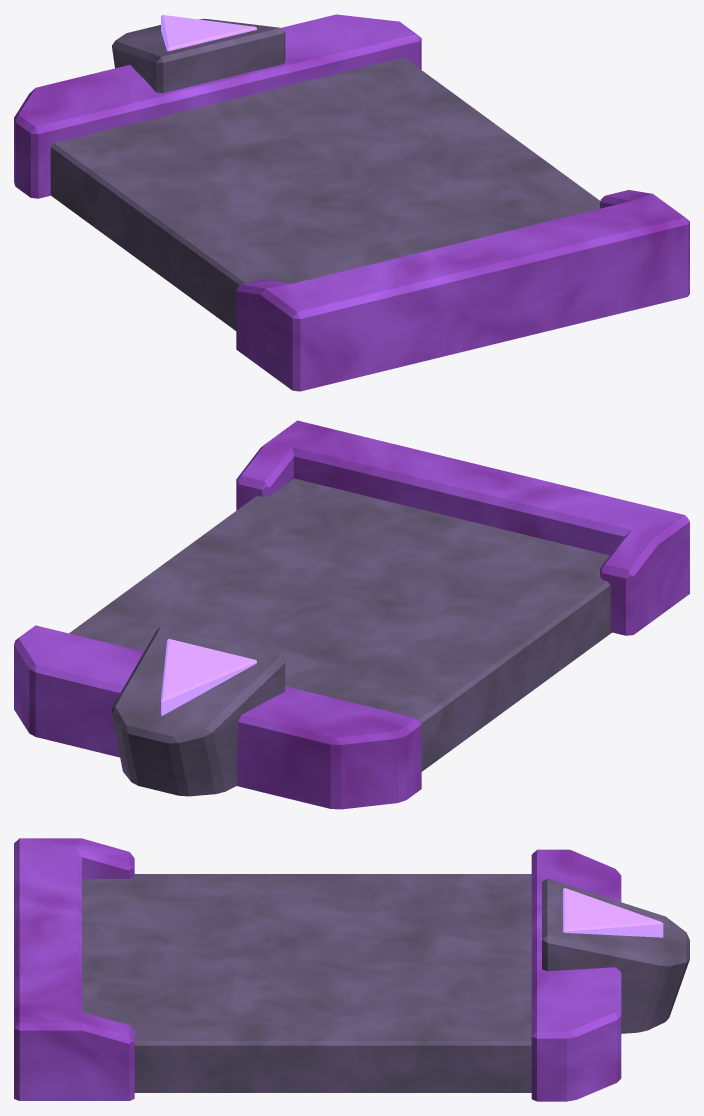
Rendered from purple_baseplate.glb.
The picture shows the model from 3 angles, top to bottom: view 1: azimuth 30°, elevation 25°; view 2: azimuth 150°, elevation 25°; view 3: azimuth 270°, elevation 25°; orthographic projection. The views are drawn at different scales.
Visible parts, largest first — view 1: PurplePlate; view 2: PurplePlate; view 3: PurplePlate.
Boxes of the visible parts, <box> form: PurplePlate: <box>14,14,689,391</box>; PurplePlate: <box>14,420,689,809</box>; PurplePlate: <box>14,838,689,1101</box>.
Bounding box in the file's own units: 0.9761 × 0.2441 × 1.47.
1 material, 1 textured.
